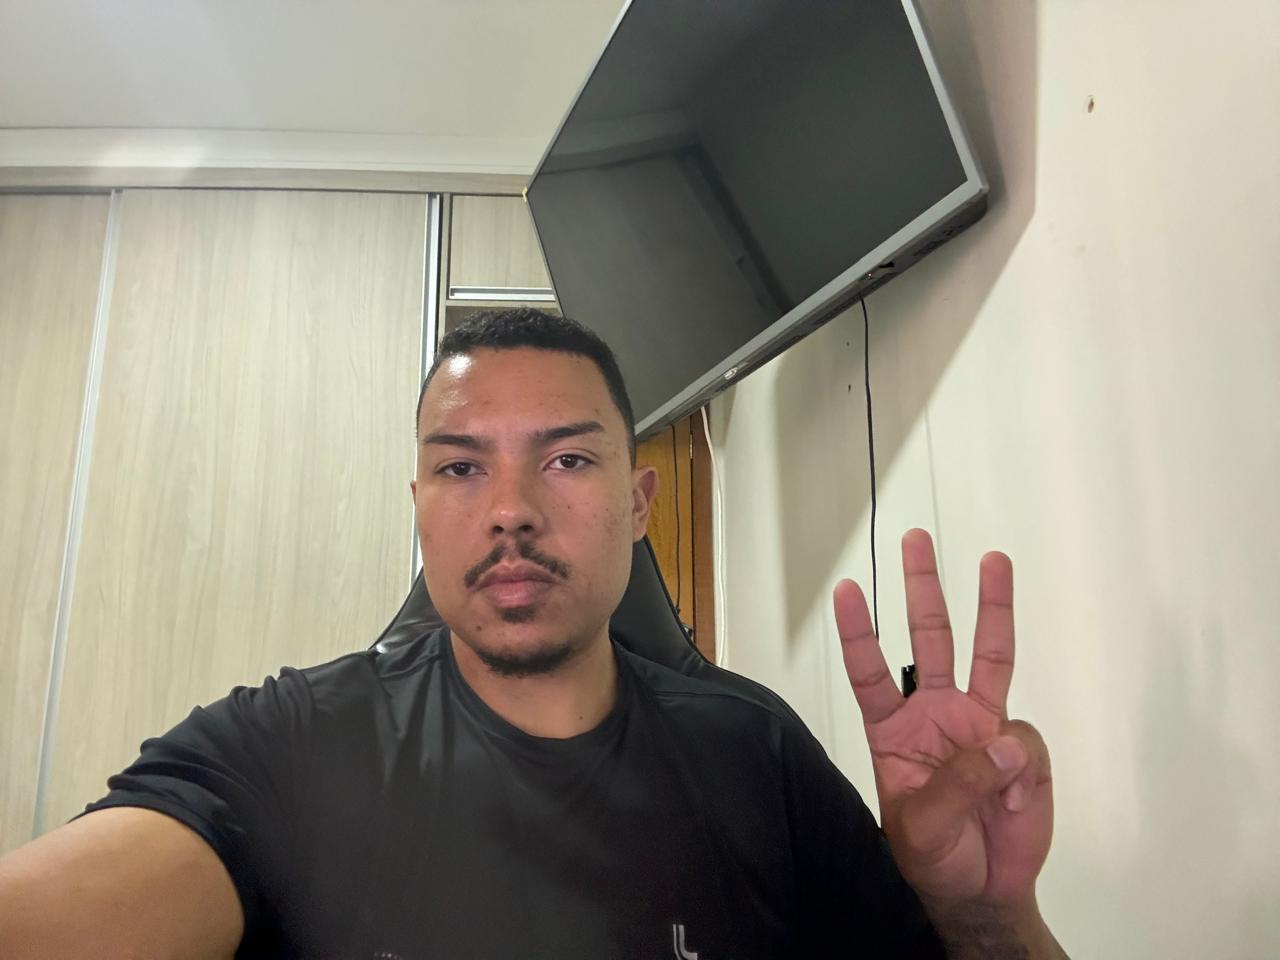w: (815, 522, 1064, 911)
